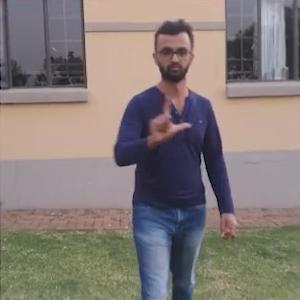land_hand: (145, 86, 197, 147)
